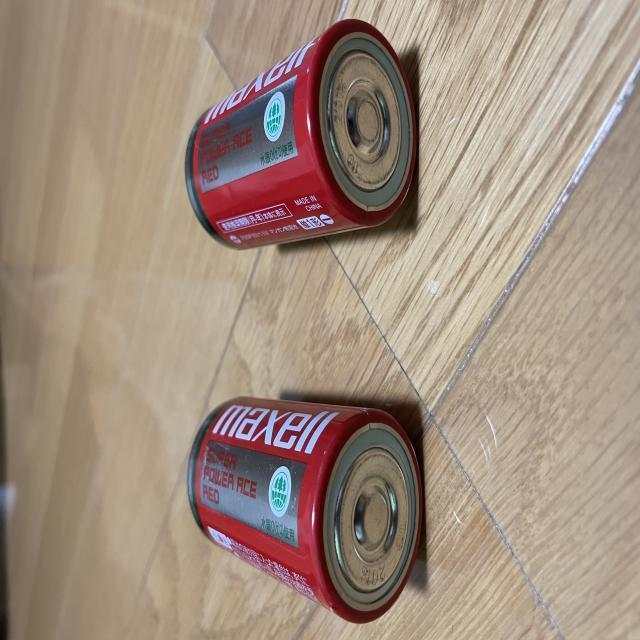Hazard: (184, 394, 428, 628), (183, 17, 417, 254)
